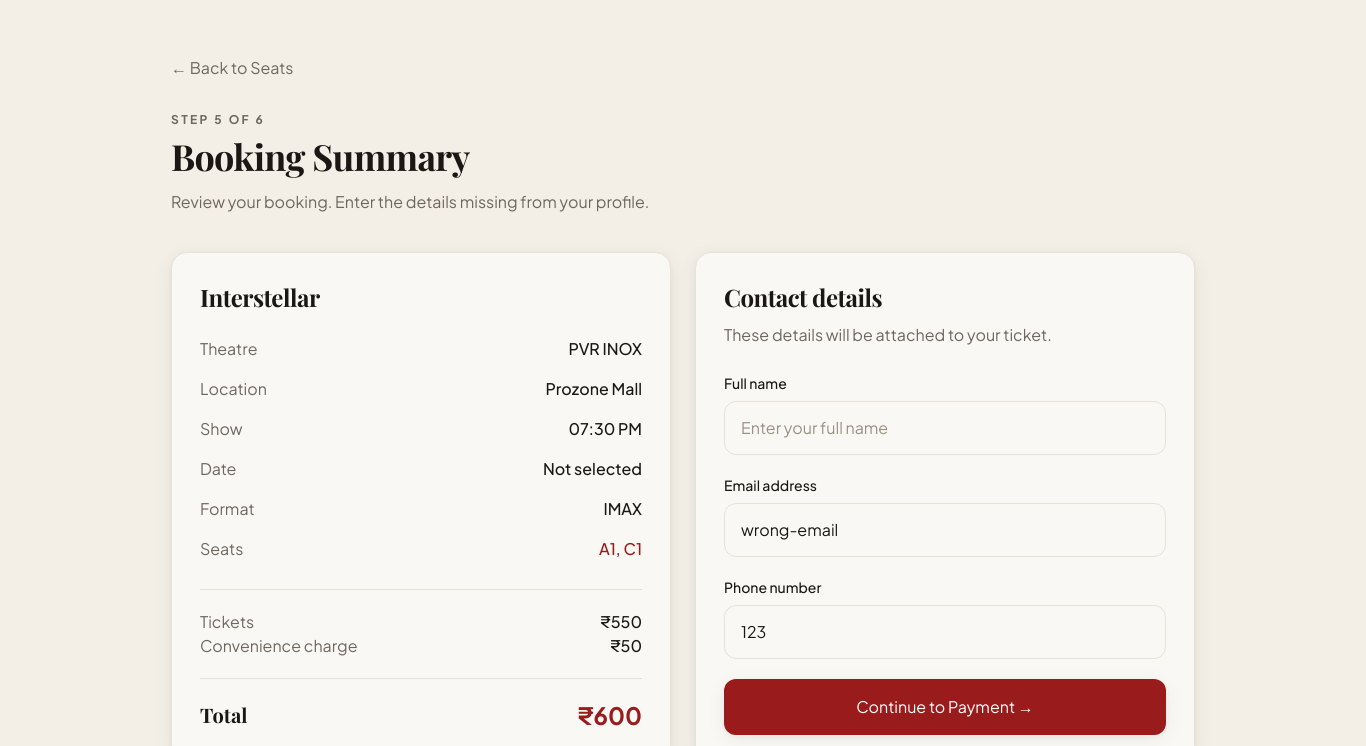
Test case: blocks continuation when customer details are invalid
Click the button "Continue to Payment →": coordinates (945, 707) [724, 679, 1166, 735]
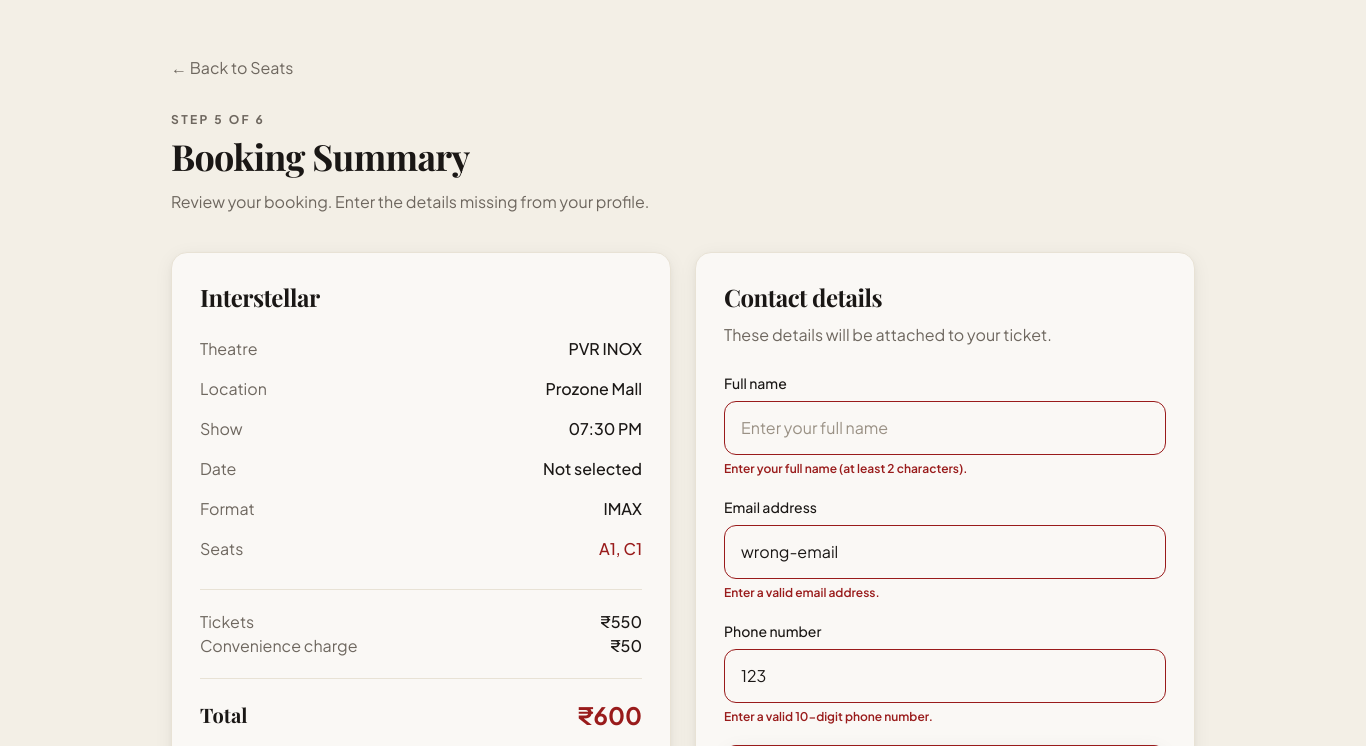
Now the text "Enter your full name (at least 2 characters)." is shown, box [724, 461, 967, 476]
Now the text "Enter a valid email address." is shown, box [724, 585, 880, 600]
Now the text "Enter a valid 10-digit phone number." is shown, box [724, 709, 933, 724]
